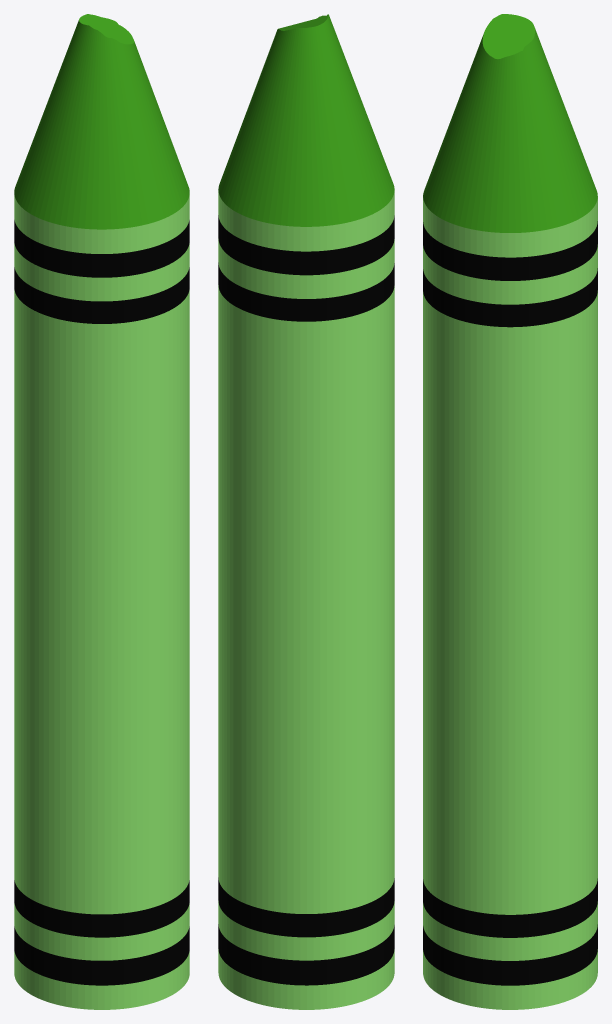
File: yesilmumboya.fbx
3 renders of one model, left to right at view 1: azimuth 30°, elevation 25°; view 2: azimuth 150°, elevation 25°; view 3: azimuth 270°, elevation 25°, orthographic.
Visible parts, largest first — view 1: Cylinder; view 2: Cylinder; view 3: Cylinder.
Part boxes in pixels (box(x1,y1,x2,y2)): Cylinder: box(14, 14, 189, 1009); Cylinder: box(218, 14, 394, 1009); Cylinder: box(423, 14, 597, 1009).
Bounding box in the file's own units: 200 × 1200 × 200.
